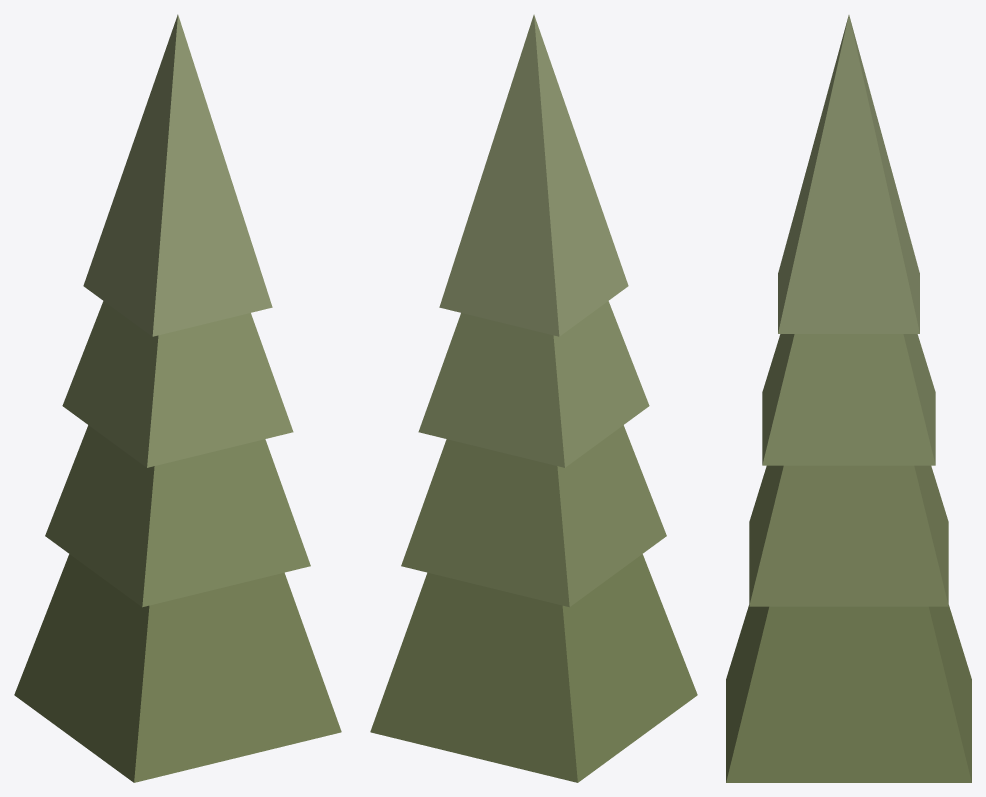
Rendered from fir_tree_17.fbx.
The picture shows the model from 3 angles, left to right: view 1: azimuth 30°, elevation 25°; view 2: azimuth 150°, elevation 25°; view 3: azimuth 270°, elevation 25°; orthographic projection. The views are drawn at different scales.
Visible parts, largest first — view 1: fir_tree_17; view 2: fir_tree_17; view 3: fir_tree_17.
Boxes of the visible parts, x1,y1,x2,y2 form: fir_tree_17: [14, 14, 341, 782]; fir_tree_17: [370, 14, 697, 782]; fir_tree_17: [726, 15, 971, 782].
Size of the model in its own units: 117 by 378 by 117.
